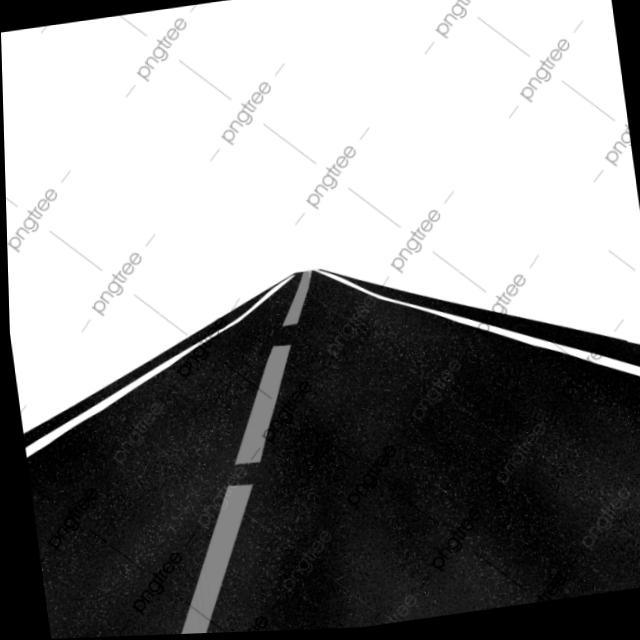cleat: (1, 0, 640, 639)
